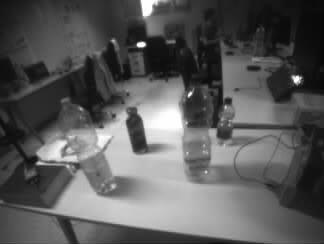Bottle: (66, 98, 112, 194), (181, 83, 210, 180), (127, 109, 146, 153), (218, 97, 233, 142)
